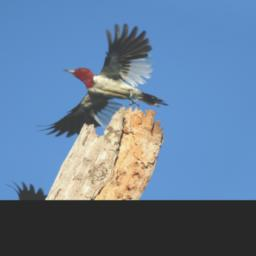Woodpecker: (31, 15, 203, 158)
